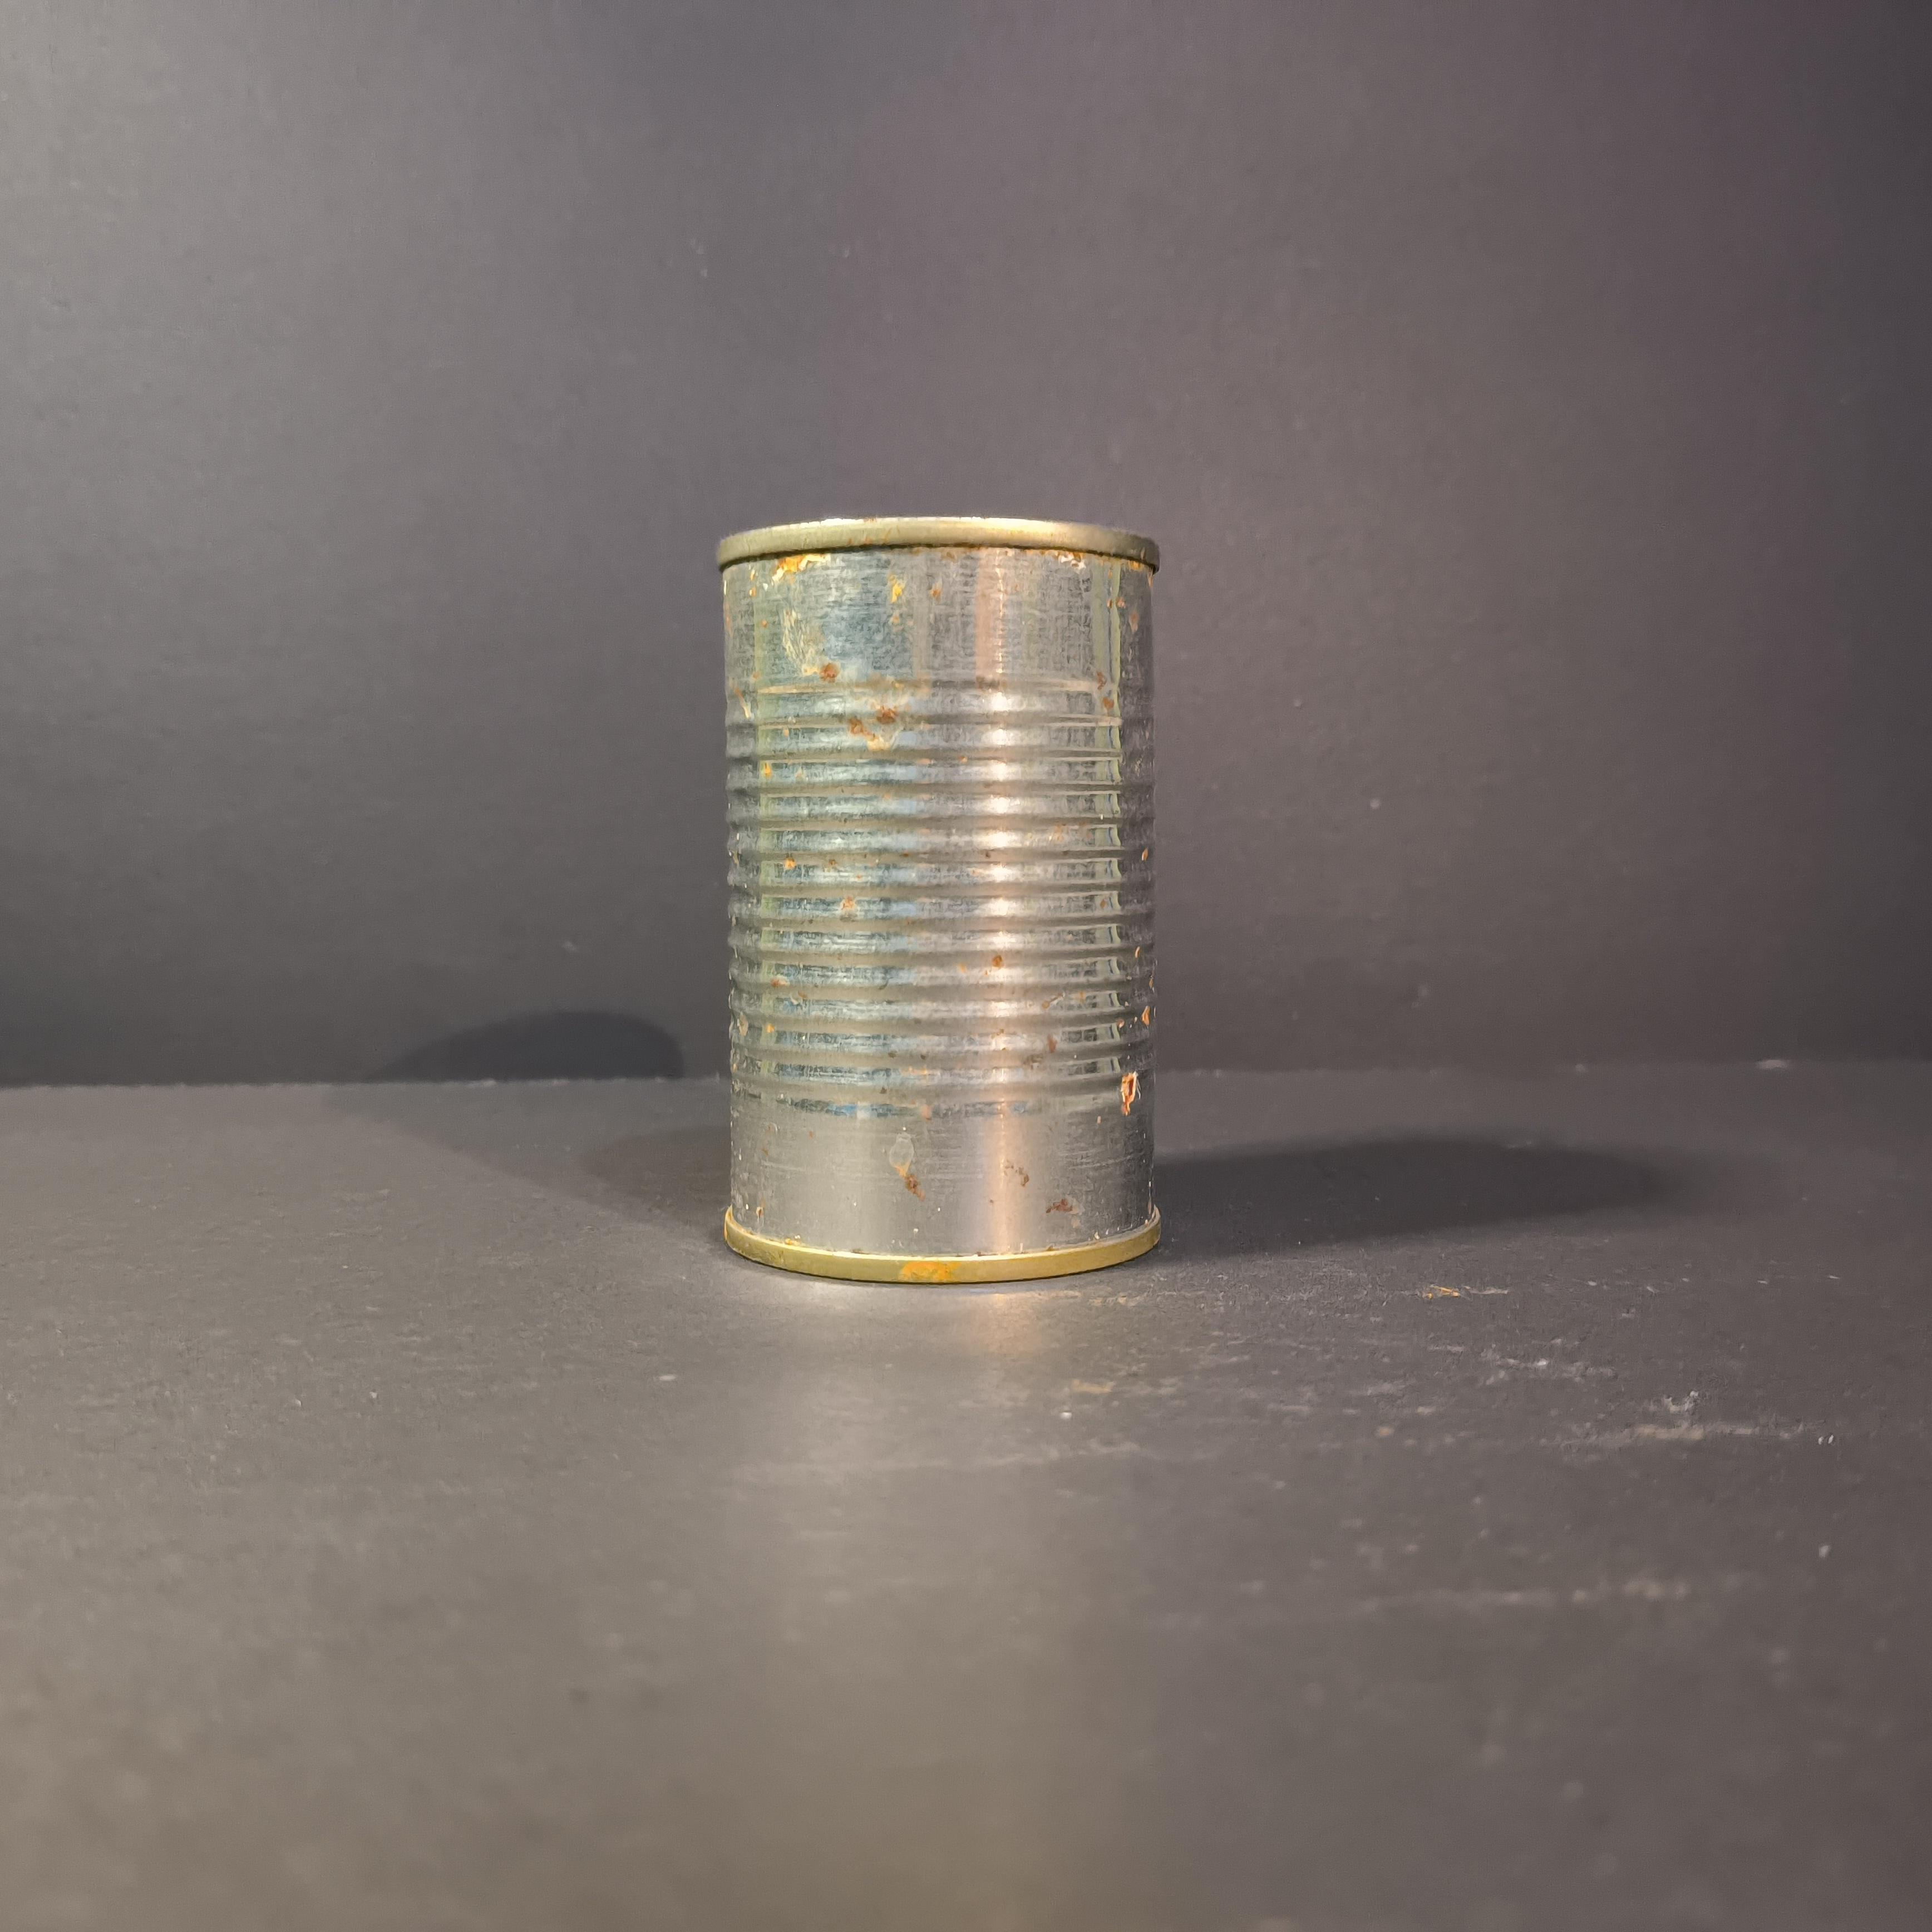Rusted: (706, 490, 1182, 1293)
